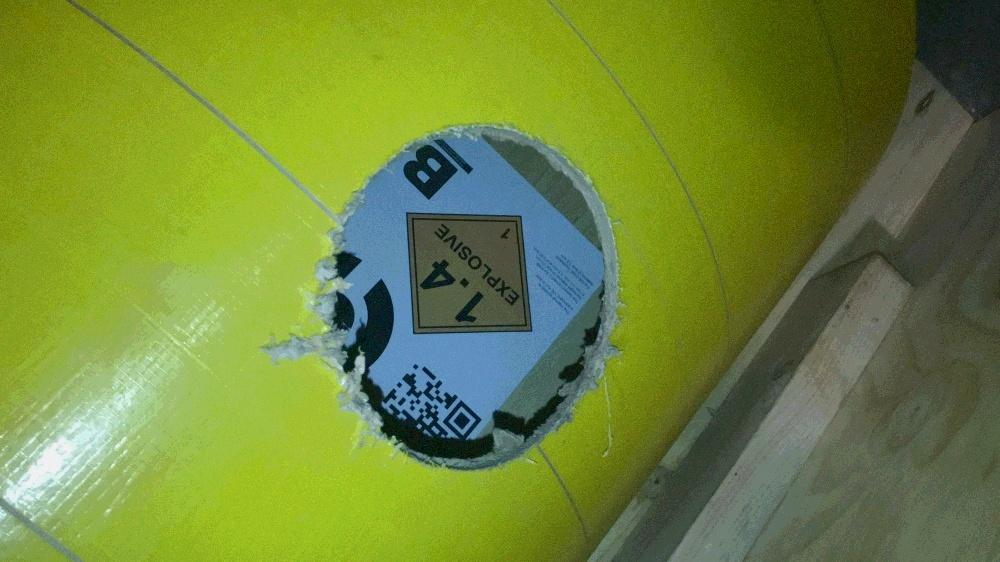explosive: (407, 207, 536, 335)
